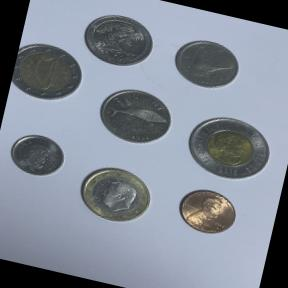coin: (172, 101, 283, 196), (66, 154, 164, 235), (88, 76, 182, 156), (74, 4, 162, 76), (8, 36, 89, 110), (167, 179, 247, 246), (1, 124, 73, 186)
